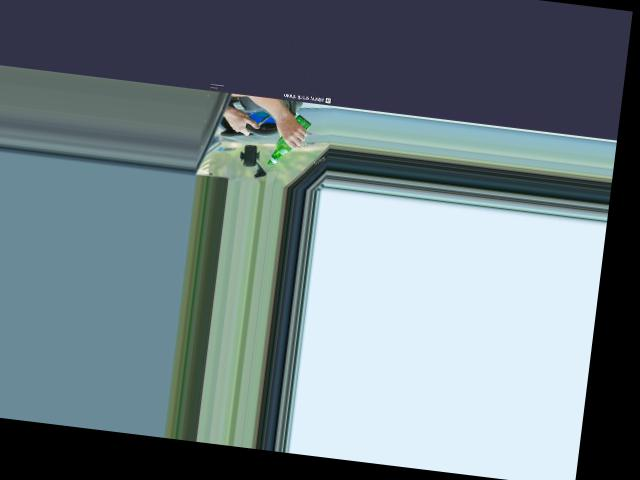beer: (267, 110, 310, 169)
